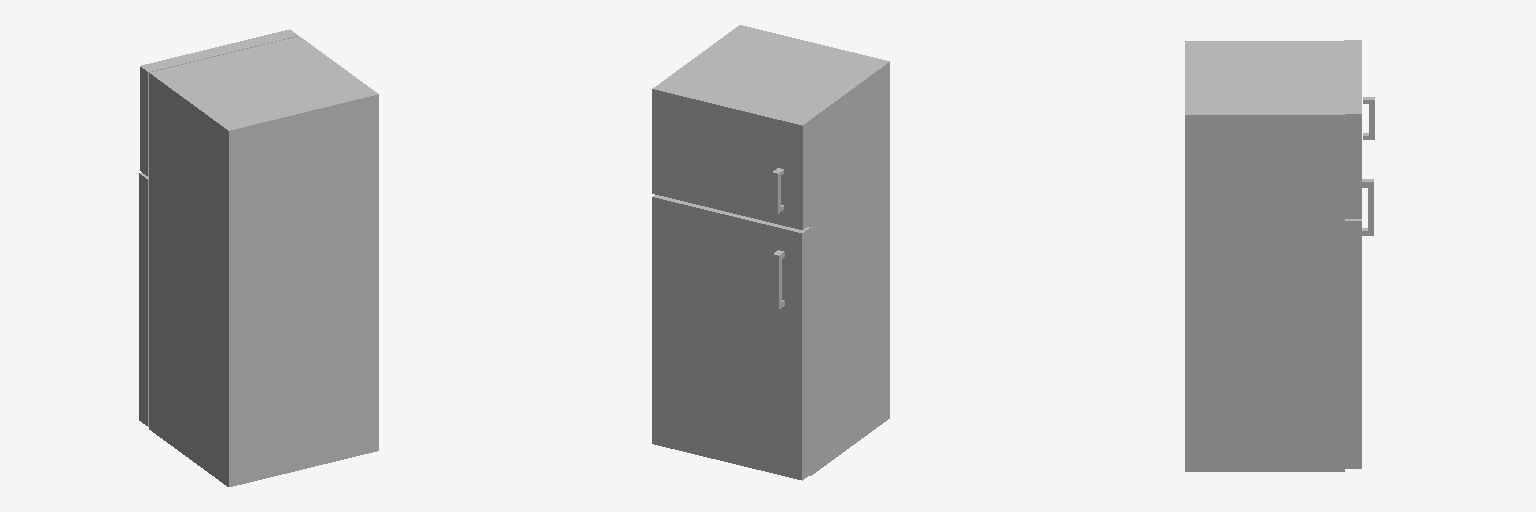
The model's file is Geladeira.obj.
The picture shows the model from 3 angles: view 1: azimuth 30°, elevation 25°; view 2: azimuth 150°, elevation 25°; view 3: azimuth 270°, elevation 25°; orthographic projection.
Parts seen in each view (by area): view 1: group95; view 2: group95; view 3: group95.
Boxes of the visible parts, box(x1,y1,x2,y2) form: group95: box(139, 29, 378, 486); group95: box(652, 25, 889, 480); group95: box(1185, 40, 1374, 471).
Bounding box in the file's own units: 1.47 × 3.33 × 1.6.